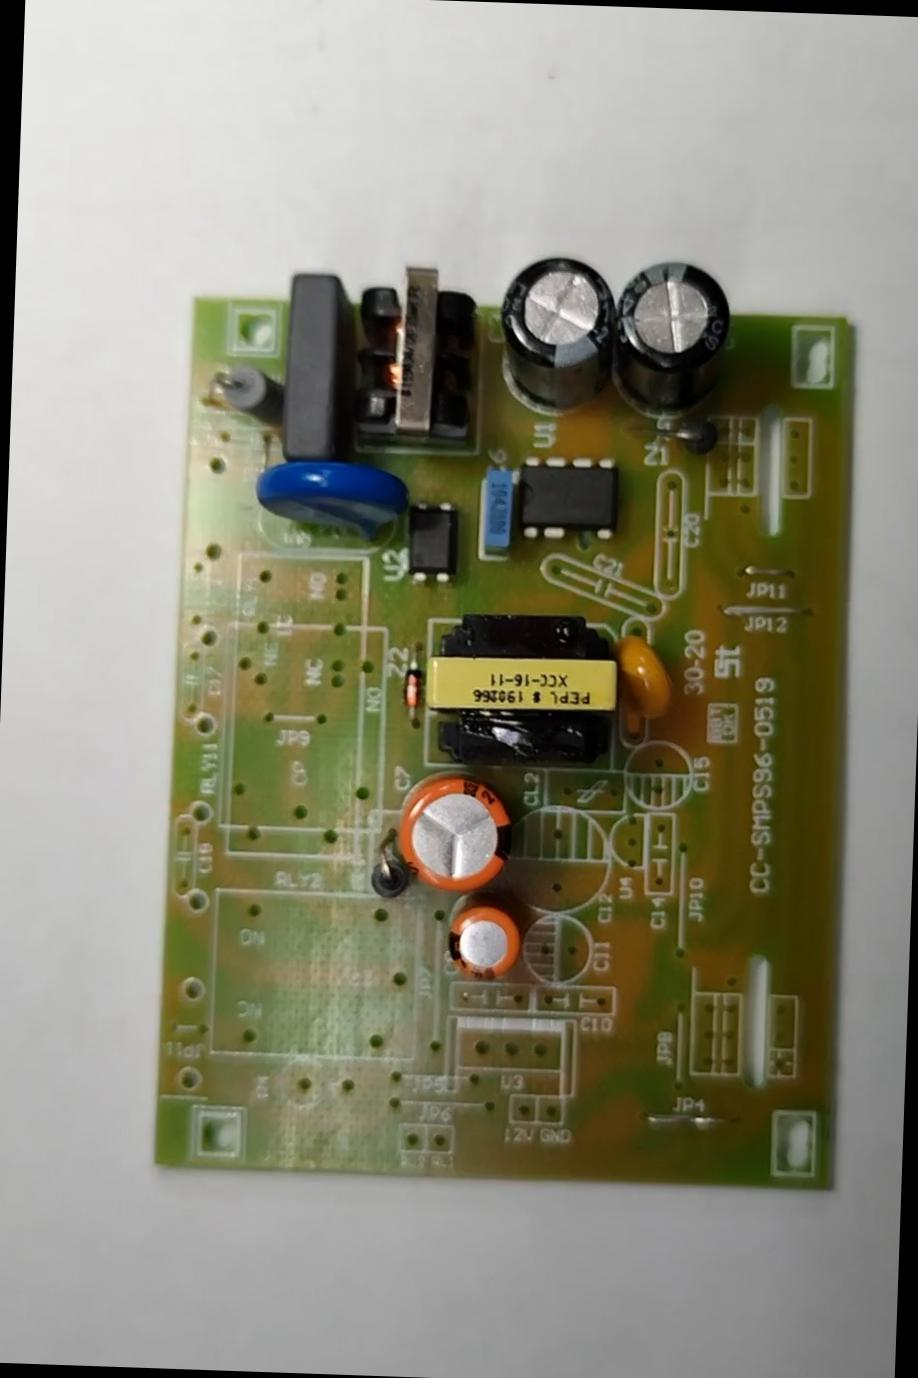Cap1: (373, 766, 535, 905)
Cap2: (434, 890, 540, 993)
Cap3: (490, 244, 623, 423)
Cap4: (602, 239, 734, 437)
MOSFET: (497, 440, 626, 558)
Mov: (246, 444, 418, 556)
Resistor: (196, 354, 289, 434)
Transformer: (407, 602, 637, 774), (337, 250, 479, 454)
